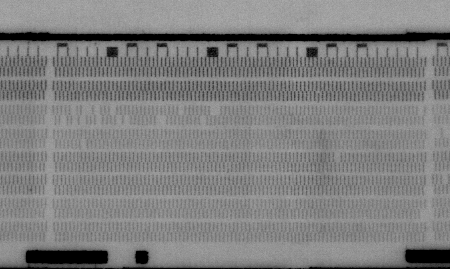Broken hole: (58, 105, 132, 129), (153, 116, 170, 127), (208, 106, 223, 118), (435, 128, 450, 140), (77, 140, 90, 152), (417, 209, 429, 222), (175, 105, 188, 116), (199, 116, 210, 128), (415, 107, 426, 118), (333, 152, 343, 164), (440, 173, 450, 185)
Oblique printing: (313, 91, 324, 105)
